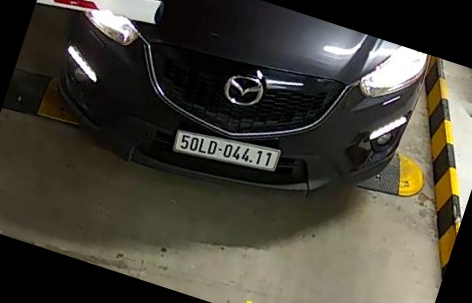plate: (171, 126, 281, 181)
